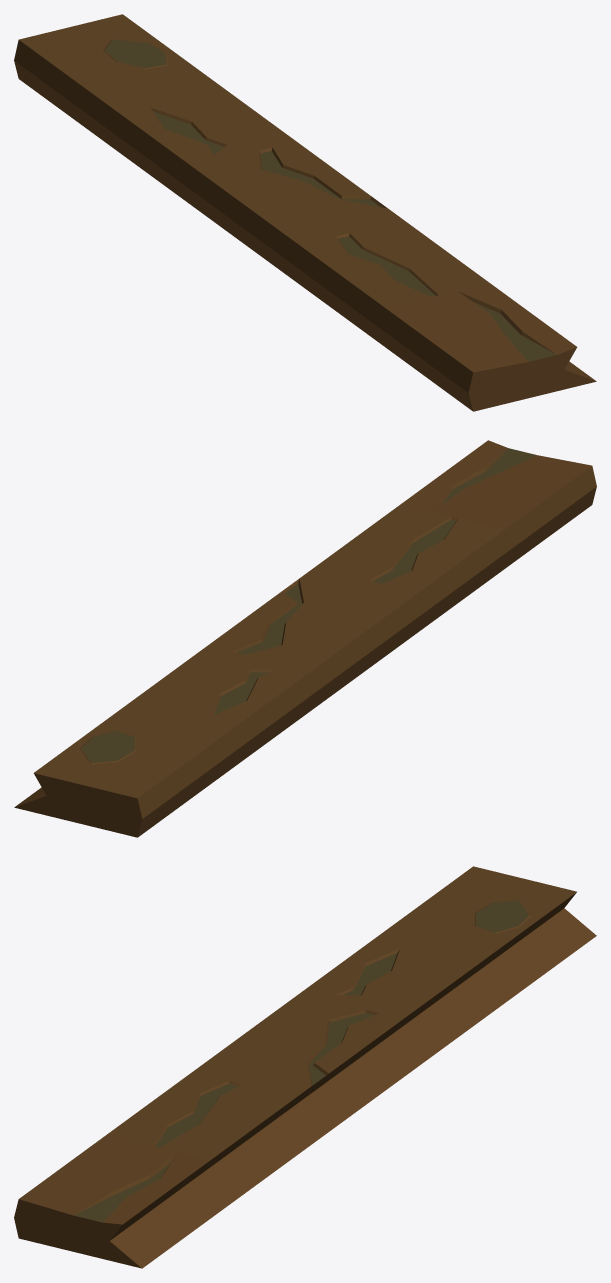
File: Planks.fbx
3 renders of one model, top to bottom at view 1: azimuth 30°, elevation 25°; view 2: azimuth 150°, elevation 25°; view 3: azimuth 330°, elevation 25°, orthographic.
Parts seen in each view (by area): view 1: Cube; view 2: Cube; view 3: Cube.
Part boxes in pixels (x1,y1,x2,y2): Cube: (14, 14, 596, 411); Cube: (14, 440, 596, 837); Cube: (14, 866, 596, 1268).
Size of the model in its own units: 138 by 41.15 by 849.
